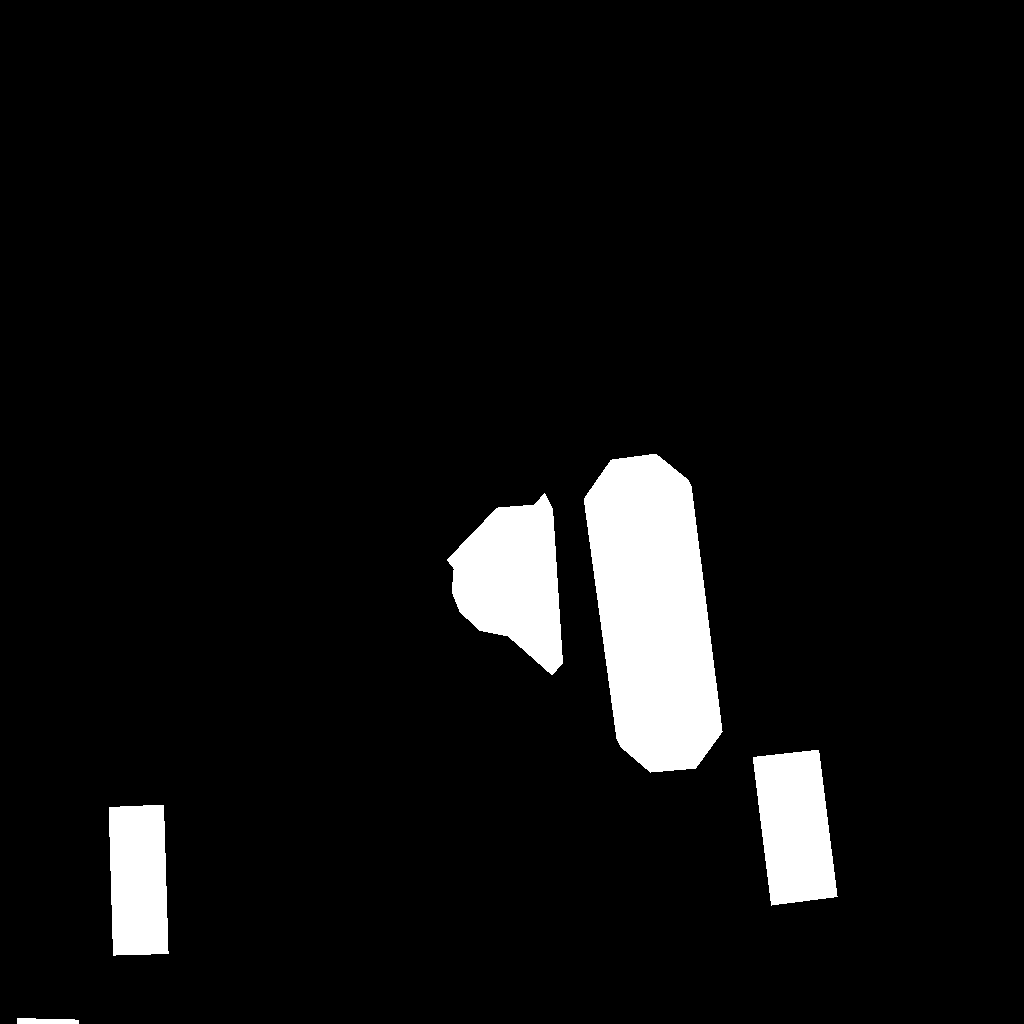building: (584, 454, 723, 773), (447, 493, 563, 676), (753, 750, 838, 906), (109, 805, 169, 956), (17, 1018, 80, 1024)
